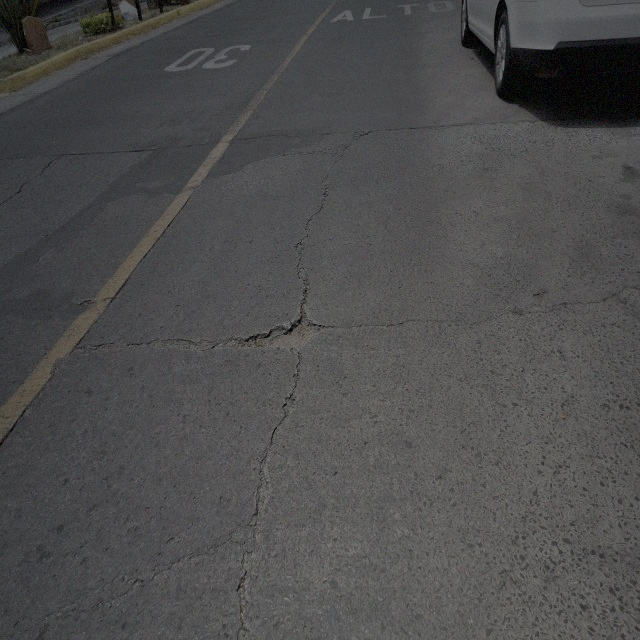pothole: (242, 304, 322, 359)
